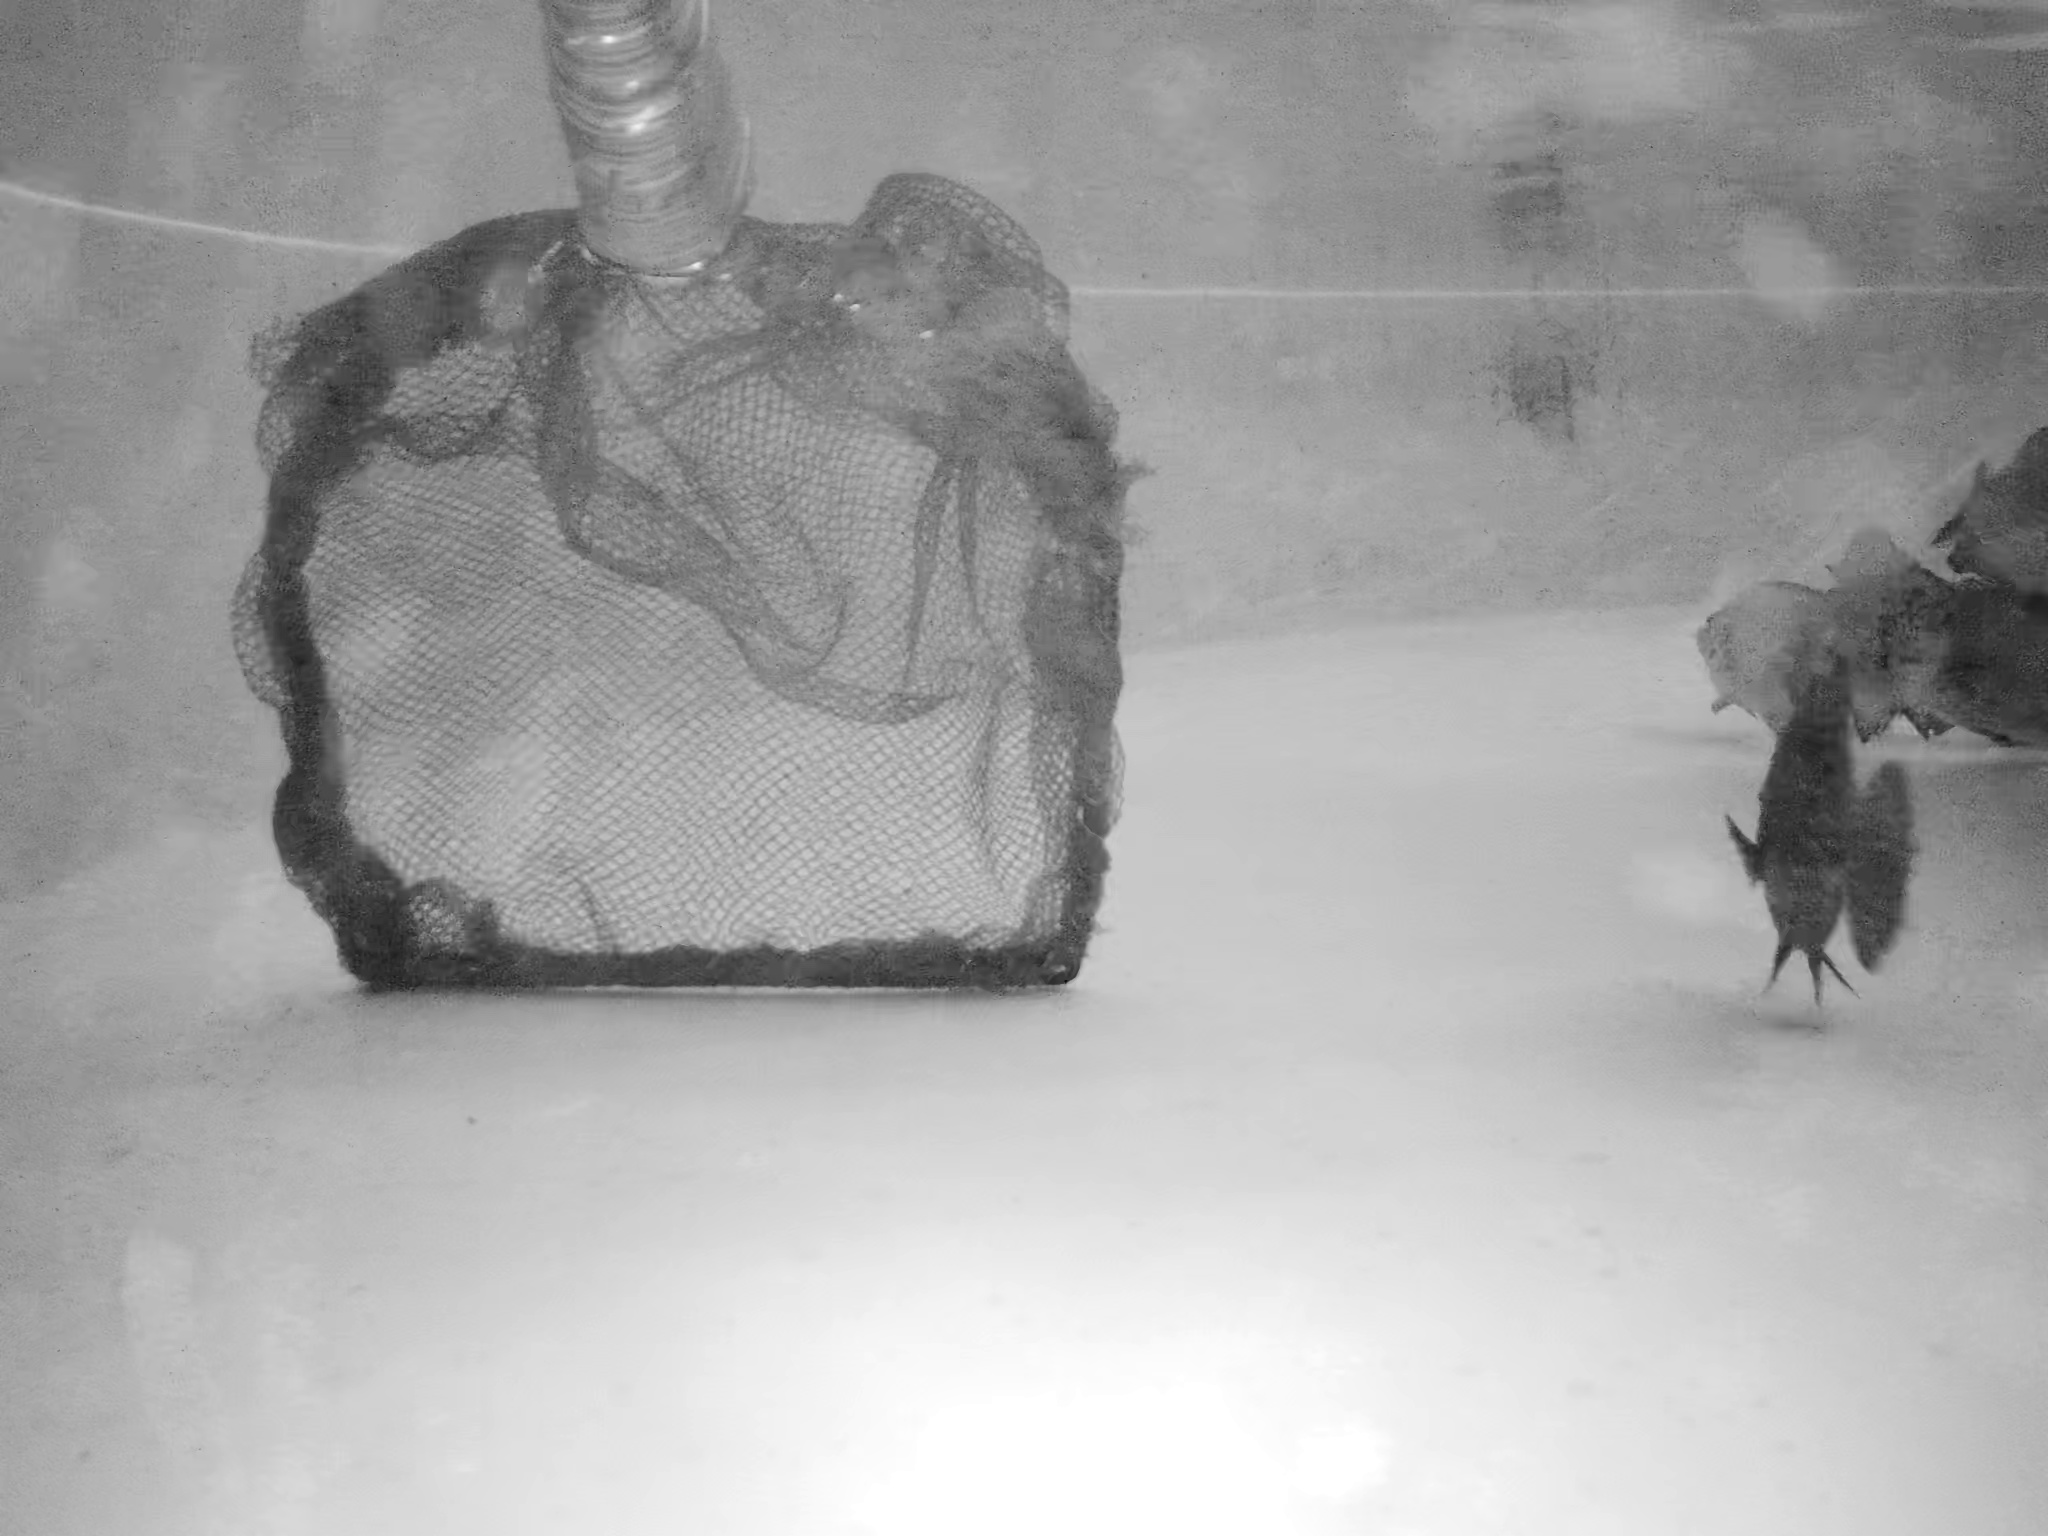fish: (1729, 691, 1922, 991), (1693, 563, 1867, 728), (1913, 571, 2048, 773), (1842, 542, 1950, 715), (1948, 432, 2048, 565)
